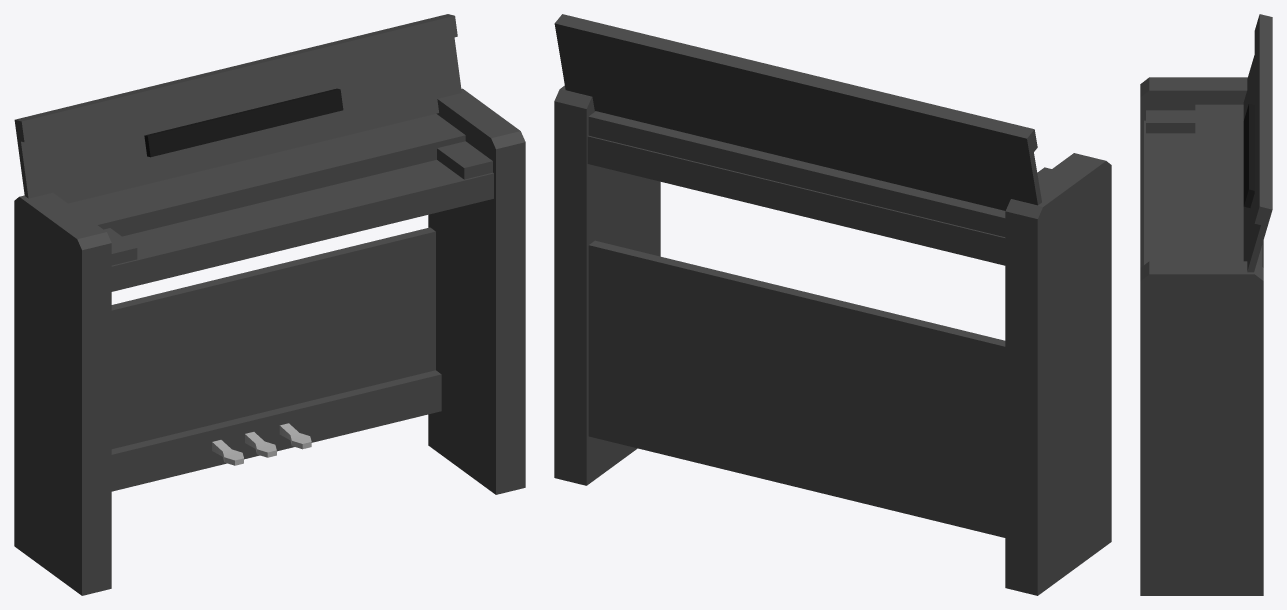
The model's file is Piano.fbx.
3 views of the same model, side by side, from view 1: azimuth 30°, elevation 25°; view 2: azimuth 150°, elevation 25°; view 3: azimuth 270°, elevation 25° (orthographic). The views are drawn at different scales.
Parts seen in each view (by area): view 1: Piano2; view 2: Piano2; view 3: Piano2.
Boxes of the visible parts, x1,y1,x2,y2 form: Piano2: [14, 14, 525, 595]; Piano2: [554, 14, 1111, 595]; Piano2: [1140, 14, 1272, 595].
Size of the model in its own units: 131 by 120 by 37.12.
